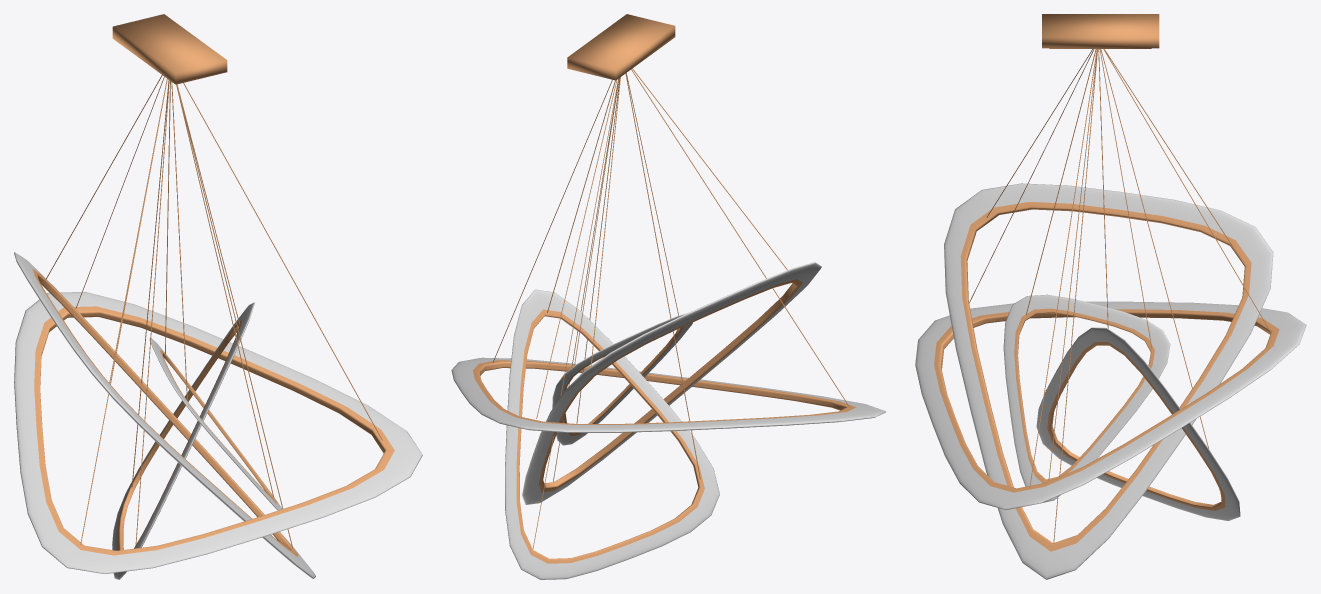
File: Lobby Ceiling Light.fbx
The picture shows the model from 3 angles, left to right: view 1: azimuth 30°, elevation 25°; view 2: azimuth 150°, elevation 25°; view 3: azimuth 270°, elevation 25°; orthographic projection. The views are drawn at different scales.
Parts seen in each view (by area): view 1: Circle.001; view 2: Circle.001; view 3: Circle.001.
Part boxes in pixels (left/top/right/bottom): Circle.001: left=14, top=14, right=422, bottom=579; Circle.001: left=451, top=14, right=885, bottom=579; Circle.001: left=915, top=14, right=1306, bottom=579.
Size of the model in its own units: 1.52 by 1.94 by 1.37.
